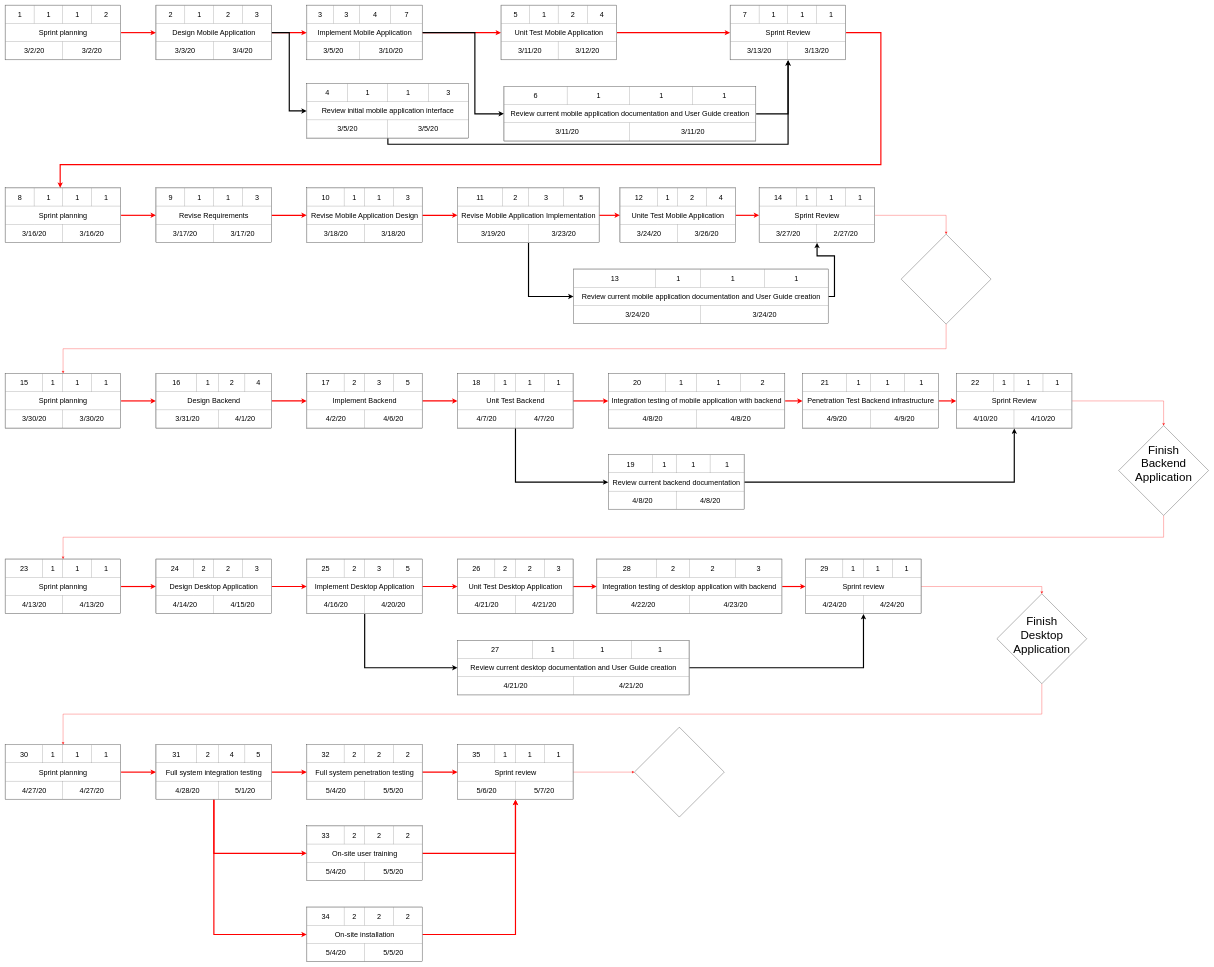
Image size: 1214x967. Some labels were removed from this diagram. The centre of each missing label's shape, as x and y in pixels:
Finish Mobile Application: (946,279)
Finish Project: (679,772)
